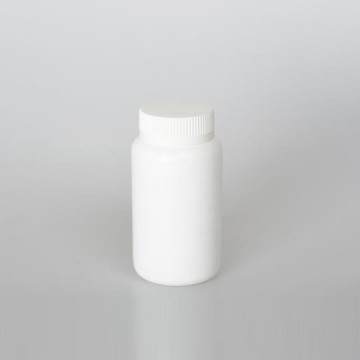medicinejar: (128, 95, 229, 288)
